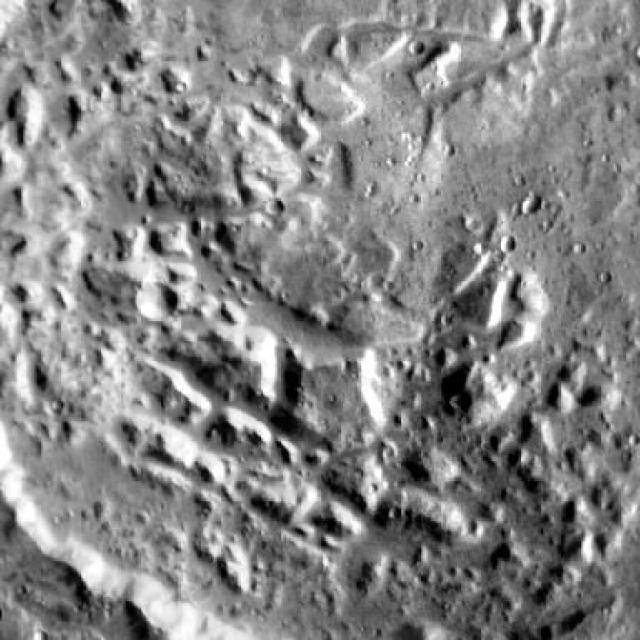crater: (0, 0, 640, 640), (137, 284, 178, 322), (500, 233, 517, 249), (522, 198, 538, 213)
